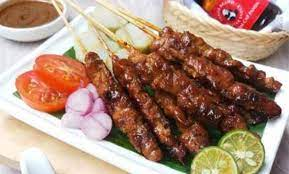sate: (21, 8, 289, 159)
